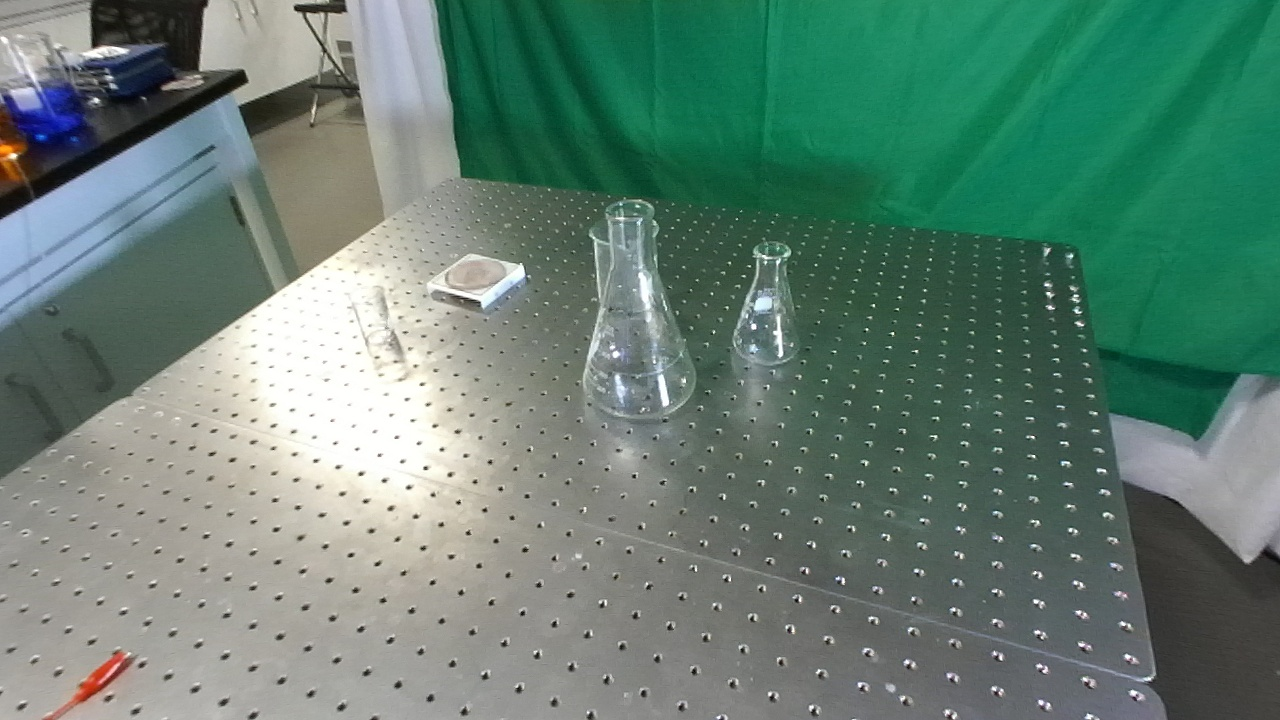glass: (349, 282, 397, 354)
plate: (421, 249, 526, 307)
